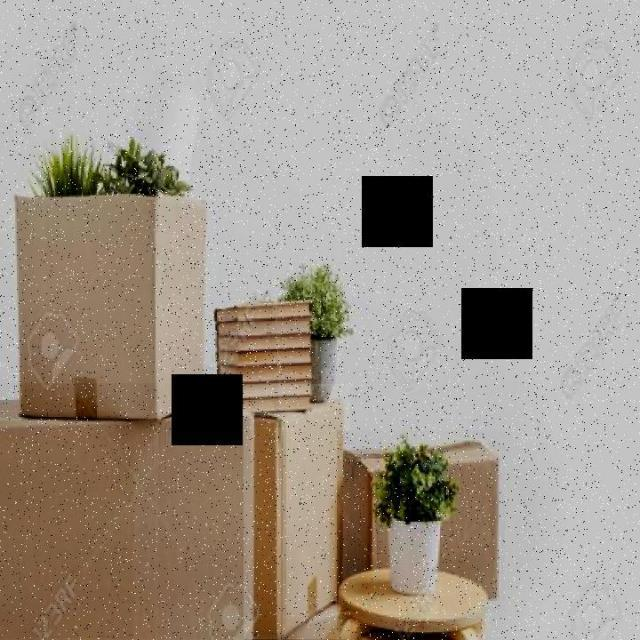box: (0, 383, 261, 638), (11, 177, 212, 426), (337, 430, 505, 612), (244, 384, 350, 639)
